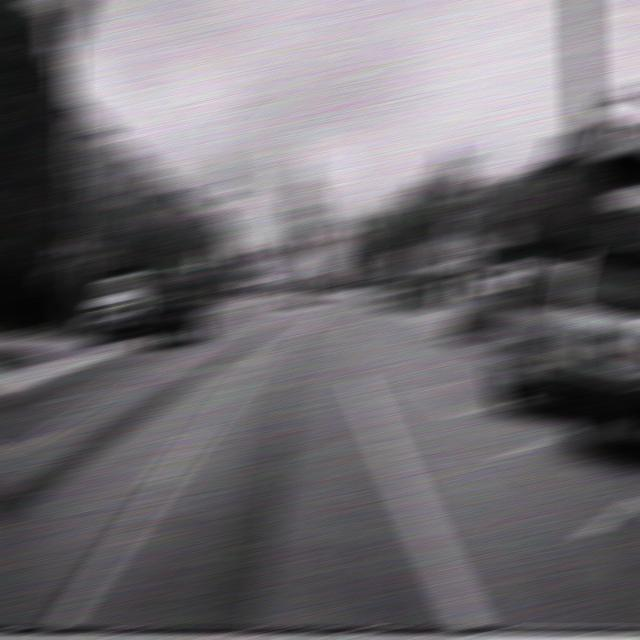pedestrianCrossing: (382, 245, 410, 270)
yield: (302, 234, 324, 249)
